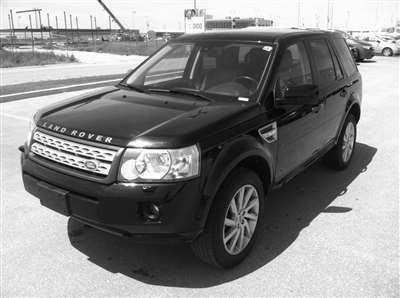car: (20, 31, 364, 271)
